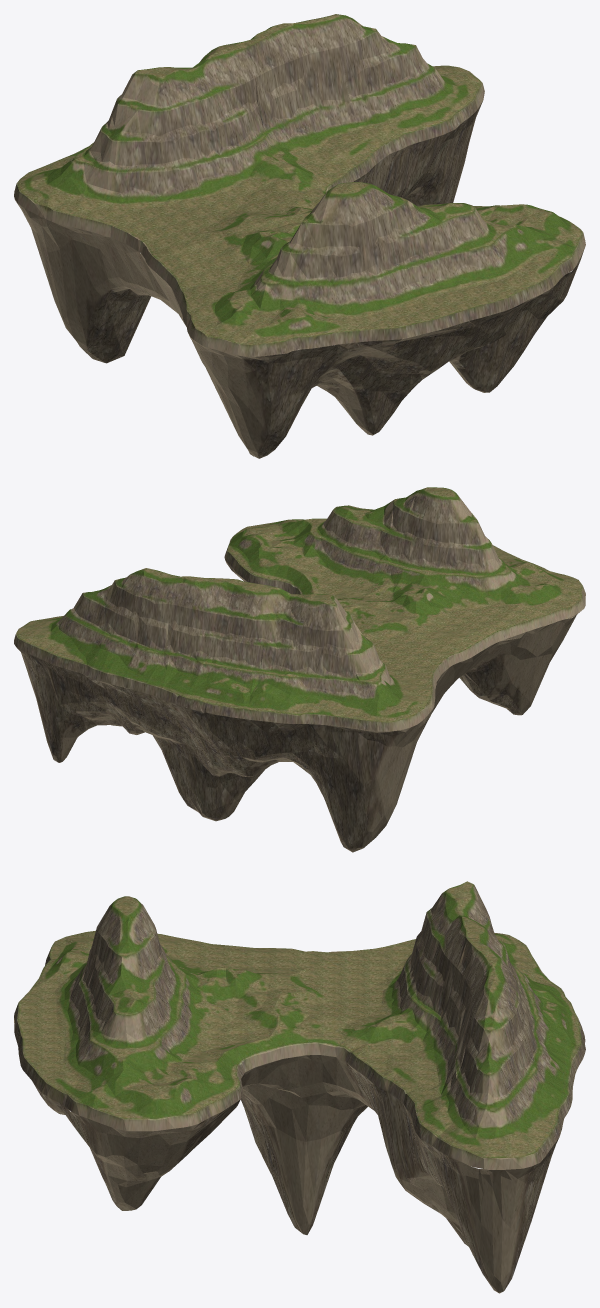
The model's file is island_base_main4.glb.
3 renders of one model, top to bottom at view 1: azimuth 30°, elevation 25°; view 2: azimuth 150°, elevation 25°; view 3: azimuth 270°, elevation 25°, orthographic. The views are drawn at different scales.
Parts seen in each view (by area): view 1: island_4_2; view 2: island_4_2; view 3: island_4_2.
Boxes of the visible parts, x1,y1,x2,y2 form: island_4_2: (14, 14, 585, 458); island_4_2: (14, 487, 585, 852); island_4_2: (14, 881, 585, 1293).
Size of the model in its own units: 11.41 by 7.61 by 11.83.
1 material, 1 textured.
